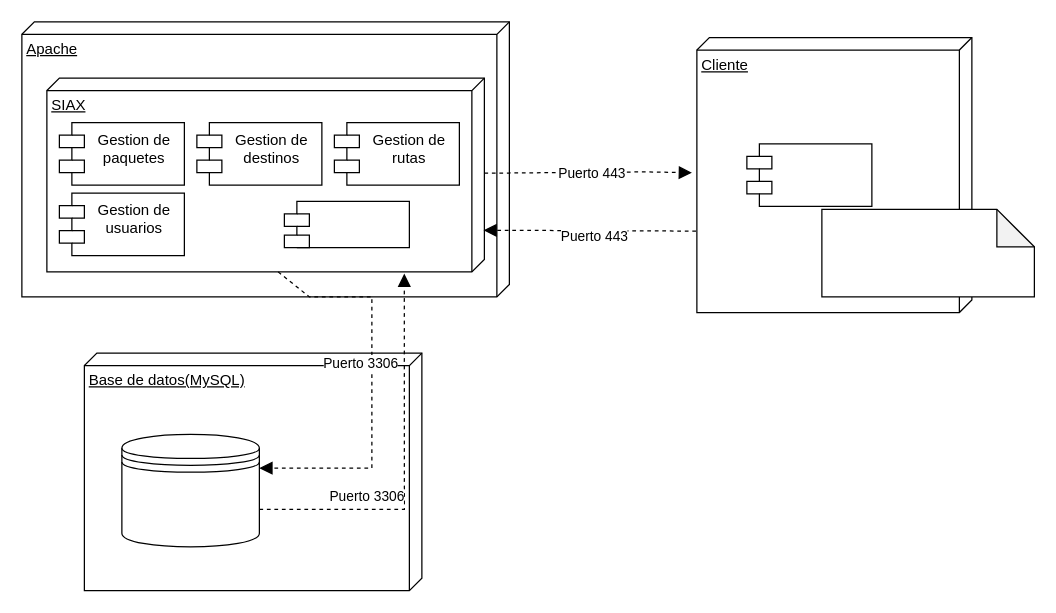
Image size: 1056x613. Some labels were removed from this diagram. Each missing label, with the centre of its shape:
Firefox superior a 52 Google Chrome superior a 60: the point at 927,252
Navegador: the point at 809,174
Seguridad: the point at 346,224
siax_db: the point at 190,490
